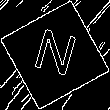N_S: (29, 25, 81, 85)
